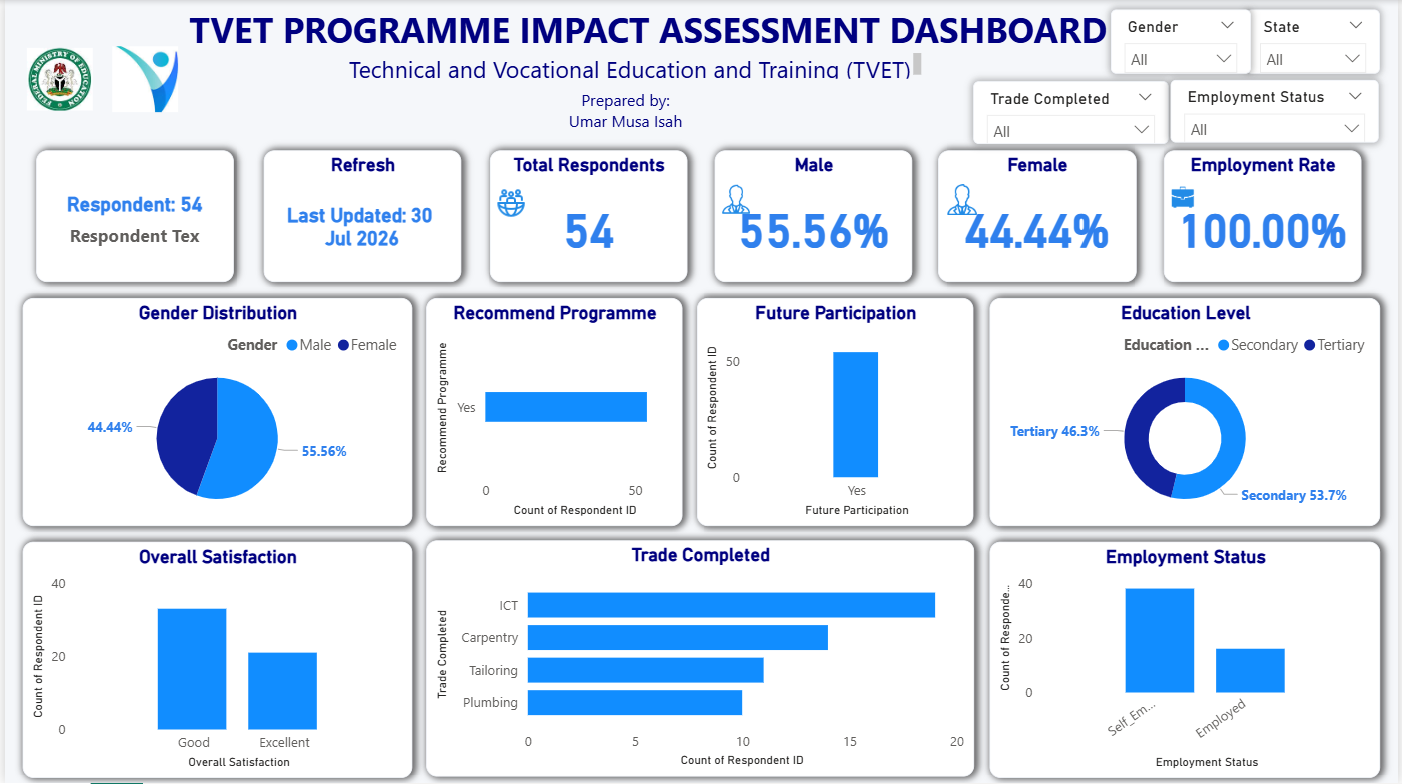

What the dashboard file says about the page in this screenshot:
{"tool":"powerbi","page":{"name":"dashboard","canvas":[1280,720],"ordinal":0},"visuals":[{"type":"card","title":"Male","fields":{"Values":["Measure_Hub.Male %"]},"box":[652.1,138.5,181.4,120.9],"z":0},{"type":"card","title":"Female","fields":{"Values":["Measure_Hub.Female %"]},"box":[857.4,138.5,181.4,120.9],"z":1000},{"type":"card","title":"Employment Rate","fields":{"Values":["Measure_Hub.Employment Rate"]},"box":[1064.2,138.5,181.4,120.9],"z":2000},{"type":"card","title":"Total Respondents","fields":{"Values":["Measure_Hub.Total Respondents"]},"box":[446.1,138.5,181.4,120.9],"z":3000},{"type":"pieChart","title":"Gender Distribution","fields":{"Category":["01_Cleaned_Data.Gender"],"Y":["CountNonNull(01_Cleaned_Data.Respondent ID)"]},"box":[15.6,273.4,357.9,209.5],"z":4000},{"type":"clusteredBarChart","title":"Trade Completed","fields":{"Category":["01_Cleaned_Data.Trade Completed"],"Y":["CountNonNull(01_Cleaned_Data.Respondent ID)"]},"box":[386.5,497.1,503.6,217.3],"z":5000},{"type":"clusteredColumnChart","title":"Employment Status","fields":{"Category":["01_Cleaned_Data.Employment Status"],"Y":["CountNonNull(01_Cleaned_Data.Respondent ID)"]},"box":[904.4,497.2,357.9,217.3],"z":6000},{"type":"donutChart","title":"Education Level","fields":{"Category":["01_Cleaned_Data.Education Level"],"Y":["CountNonNull(01_Cleaned_Data.Respondent ID)"]},"box":[904.4,273.4,357.9,209.5],"z":7000},{"type":"columnChart","title":"Overall Satisfaction","fields":{"Category":["01_Cleaned_Data.Overall Satisfaction"],"Y":["CountNonNull(01_Cleaned_Data.Respondent ID)"]},"box":[15.6,497.2,357.9,217.3],"z":8000},{"type":"barChart","title":"Recommend Programme","fields":{"Category":["01_Cleaned_Data.Recommend Programme"],"Y":["CountNonNull(01_Cleaned_Data.Respondent ID)"]},"box":[386.5,273.4,235.5,209.5],"z":9000},{"type":"textbox","box":[164,0.2,868,53.4],"z":10000},{"type":"columnChart","title":"Future Participation","fields":{"Category":["01_Cleaned_Data.Future Participation"],"Y":["CountNonNull(01_Cleaned_Data.Respondent ID)"]},"box":[636.3,273.4,253.8,209.5],"z":11000},{"type":"slicer","fields":{"Values":["01_Cleaned_Data.State"]},"box":[1139.5,8.8,122.4,59.3],"z":12000},{"type":"slicer","fields":{"Values":["01_Cleaned_Data.Gender"]},"box":[1015.9,8.8,128.7,59.3],"z":13000},{"type":"slicer","fields":{"Values":["01_Cleaned_Data.Trade Completed"]},"box":[890.4,74.3,178.8,57.9],"z":14000},{"type":"slicer","fields":{"Values":["01_Cleaned_Data.Employment Status"]},"box":[1070.5,73,191.4,57.9],"z":15000},{"type":"textbox","box":[507.6,77,124.9,52.1],"z":16000},{"type":"textbox","box":[311.1,43.1,536.1,33.8],"z":17000},{"type":"image","box":[15.1,37.9,70.7,70.7],"z":18000},{"type":"image","box":[93.4,37.9,70.7,70.7],"z":19000},{"type":"card","title":"Refresh","fields":{"Values":["Measure_Hub.Last Refresh"]},"box":[237.8,138.5,181.4,120.9],"z":20000},{"type":"card","fields":{"Values":["Measure_Hub.Respondent Tex"]},"box":[29.2,138.5,181.4,120.9],"z":21000},{"type":"image","box":[1064,161.8,34.8,31.1],"z":22000},{"type":"image","box":[650.9,154.3,41.1,44.8],"z":23000},{"type":"image","box":[445.5,161.8,39.8,41.1],"z":24000},{"type":"image","box":[857.5,154.3,43.6,44.8],"z":25000}]}

Visuals, with their boxes in screenshot pixels (x1, y1, x2, y2), scaled from the page's 1280x720 canvas onto the 1402x784 screenshot:
"Male" card: [714,151,913,282]
"Female" card: [939,151,1138,282]
"Employment Rate" card: [1166,151,1364,282]
"Total Respondents" card: [489,151,687,282]
"Gender Distribution" pieChart: [17,298,409,526]
"Trade Completed" clusteredBarChart: [423,541,975,778]
"Employment Status" clusteredColumnChart: [991,541,1383,778]
"Education Level" donutChart: [991,298,1383,526]
"Overall Satisfaction" columnChart: [17,541,409,778]
"Recommend Programme" barChart: [423,298,681,526]
textbox: [180,0,1130,58]
"Future Participation" columnChart: [697,298,975,526]
slicer - 01_Cleaned_Data.State: [1248,10,1382,74]
slicer - 01_Cleaned_Data.Gender: [1113,10,1254,74]
slicer - 01_Cleaned_Data.Trade Completed: [975,81,1171,144]
slicer - 01_Cleaned_Data.Employment Status: [1173,79,1382,143]
textbox: [556,84,693,141]
textbox: [341,47,928,84]
image: [17,41,94,118]
image: [102,41,180,118]
"Refresh" card: [260,151,459,282]
card - Measure_Hub.Respondent Tex: [32,151,231,282]
image: [1165,176,1204,210]
image: [713,168,758,217]
image: [488,176,532,221]
image: [939,168,987,217]
